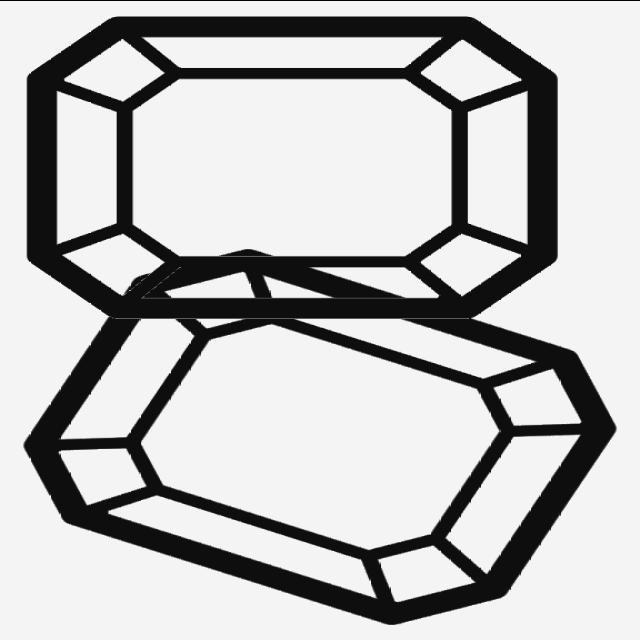emerald: (16, 240, 626, 633), (23, 11, 569, 329)
